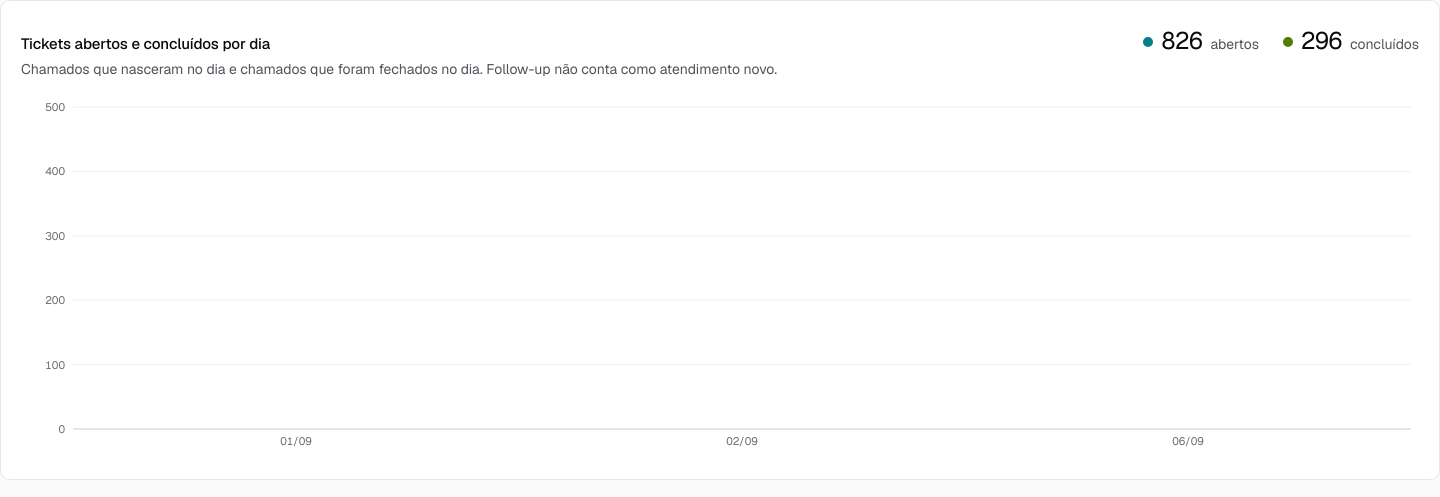
Test: TicketsAbertosConcluidos › a legenda é botão: clicar desliga a série e clicar de novo traz de volta
Step 1. Click the button with aria-label "concluídos:" → (1351, 41), box [1275,21,1427,61]
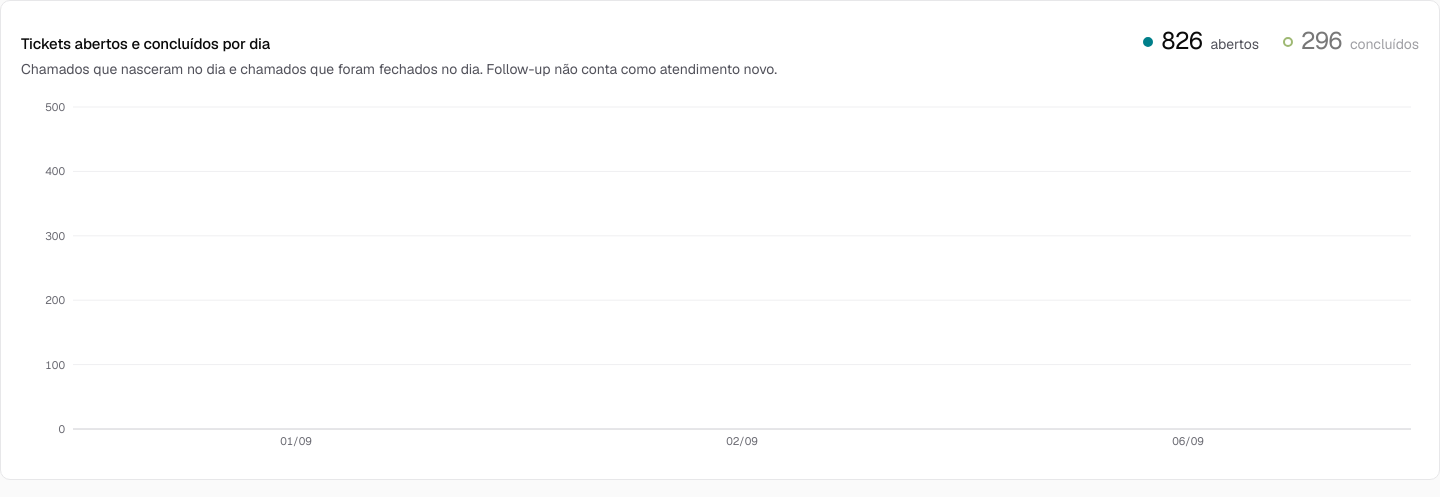
Expected: the button with aria-label "concluídos:" is not pressed
Step 2. Click the button with aria-label "concluídos:" → (1351, 41), box [1275,21,1427,61]
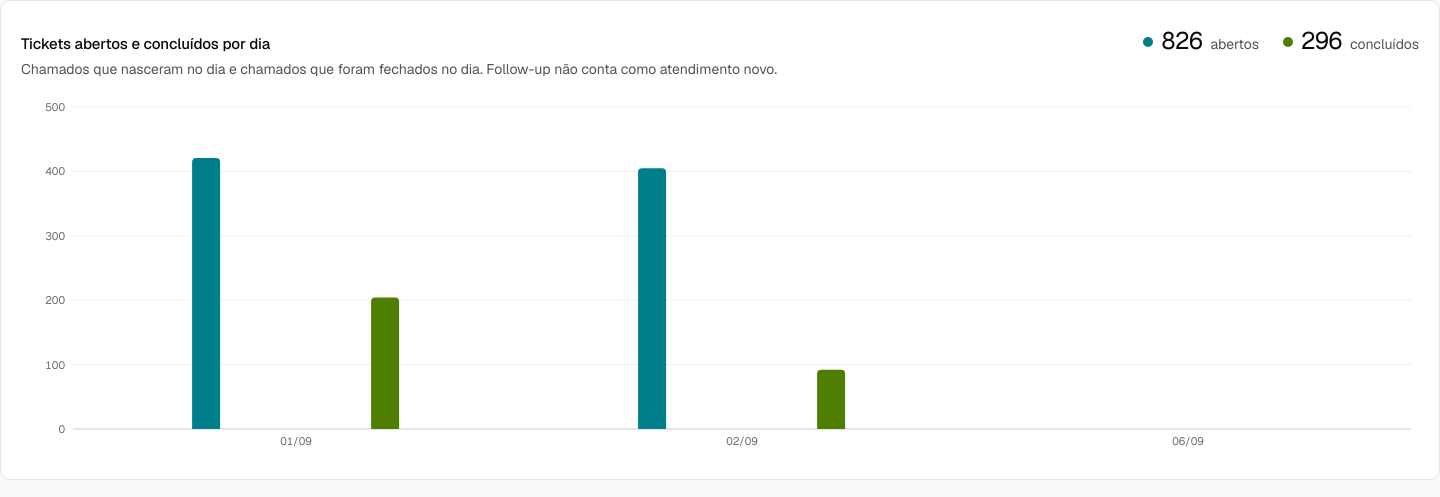
Expected: the button with aria-label "concluídos:" is pressed, [1275,21,1427,61]
